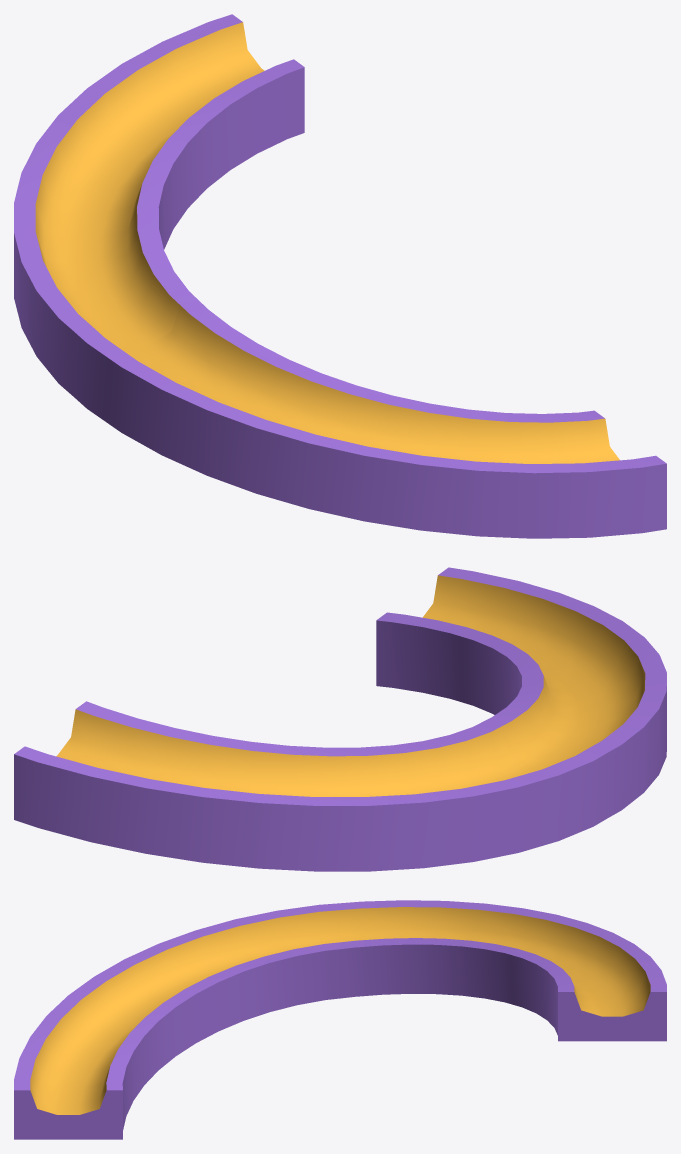
The model's file is kenney-marble-helix-large-half-right.glb.
3 views of the same model, one above another, from view 1: azimuth 30°, elevation 25°; view 2: azimuth 150°, elevation 25°; view 3: azimuth 270°, elevation 25° (orthographic). The views are drawn at different scales.
Visible parts, largest first — view 1: helix-large-half-right; view 2: helix-large-half-right; view 3: helix-large-half-right.
Boxes of the visible parts, bbox=[...] form: helix-large-half-right: bbox=[14, 14, 666, 538]; helix-large-half-right: bbox=[14, 567, 666, 871]; helix-large-half-right: bbox=[14, 900, 666, 1139].
Bounding box in the file's own units: 3 × 1.5 × 6.
Materials: 1 (1 with a texture image).
